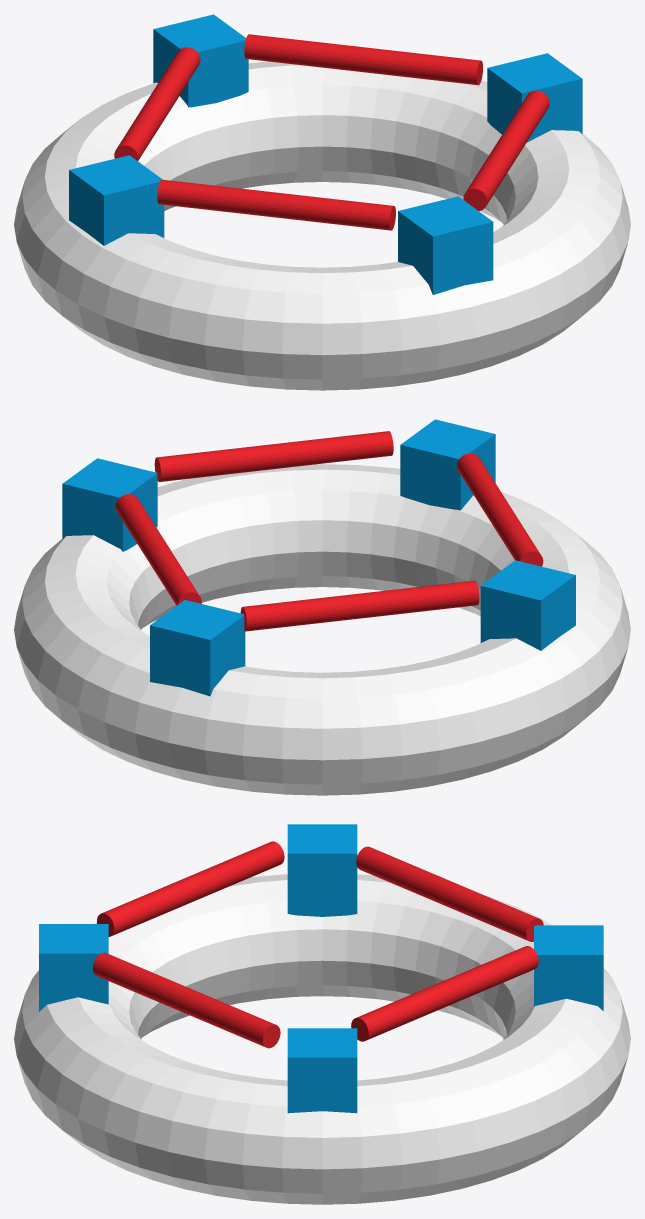
File: portal.obj
3 renders of one model, top to bottom at view 1: azimuth 30°, elevation 25°; view 2: azimuth 150°, elevation 25°; view 3: azimuth 270°, elevation 25°, orthographic.
Visible parts, largest first — view 1: Cylinder; view 2: Cylinder; view 3: Cylinder.
Part boxes in pixels (<box>): Cylinder: <box>14,14,630,390</box>; Cylinder: <box>14,419,630,795</box>; Cylinder: <box>14,824,630,1204</box>.
Bounding box in the file's own units: 2.5 × 0.7261 × 2.5.
3 materials, 3 textured.
